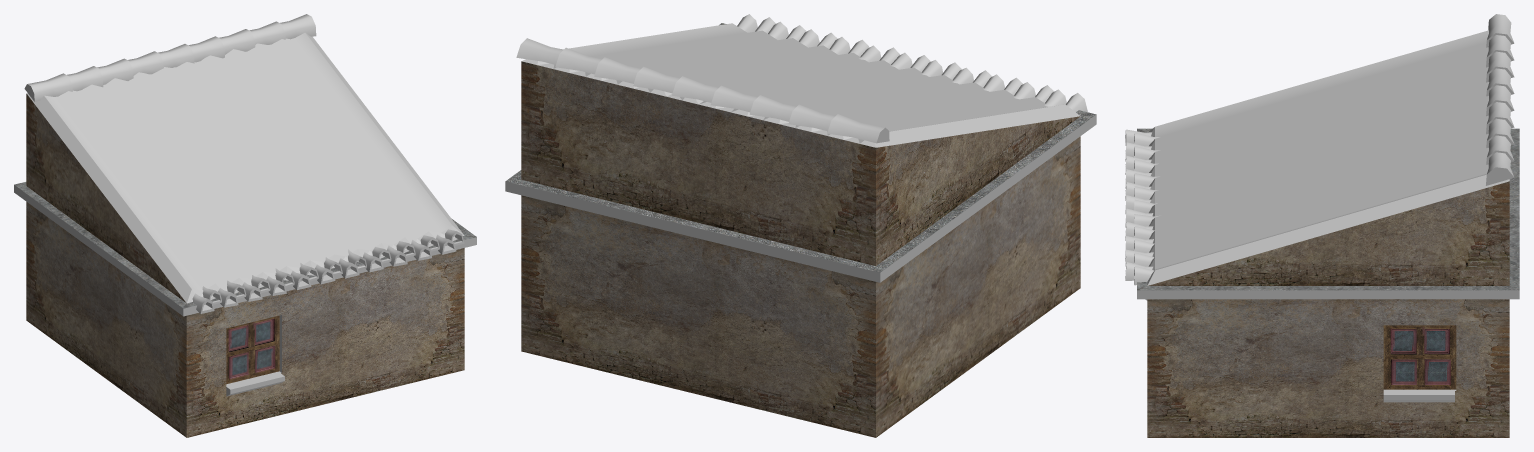
File: Building_Roof_06.fbx
3 renders of one model, left to right at view 1: azimuth 30°, elevation 25°; view 2: azimuth 150°, elevation 25°; view 3: azimuth 270°, elevation 25°, orthographic. The views are drawn at different scales.
Parts seen in each view (by area): view 1: Building_Roof_06; view 2: Building_Roof_06; view 3: Building_Roof_06.
Part boxes in pixels (<box>): Building_Roof_06: <box>14,14,476,437</box>; Building_Roof_06: <box>505,14,1096,437</box>; Building_Roof_06: <box>1125,14,1519,437</box>.
Bounding box in the file's own units: 528 × 414 × 545.
